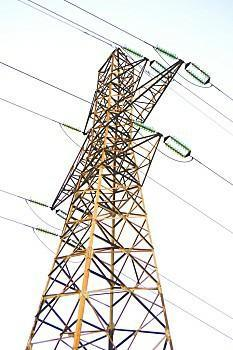power_tower: (17, 37, 212, 350)
